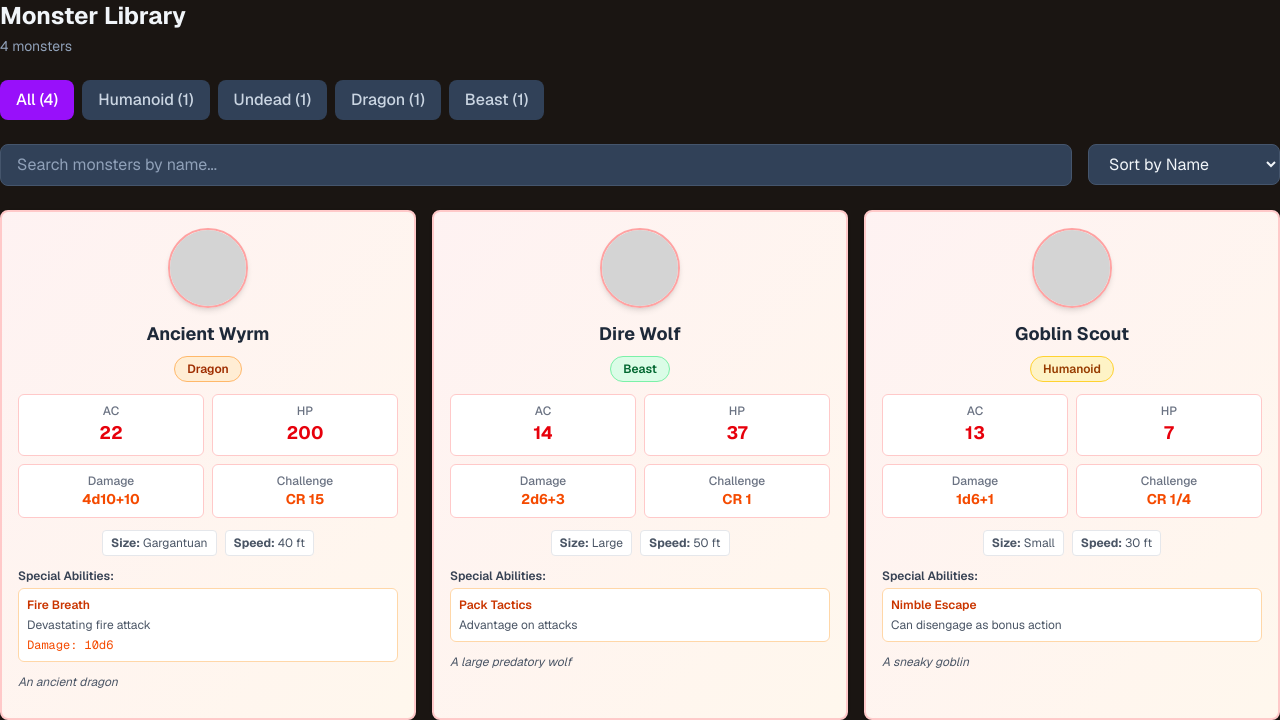
Test: MonsterLibrary › Category Filtering › filters monsters by Undead category
Step 1. Click the button with aria-label "filter by undead" → (272, 100), box [218,80,327,120]
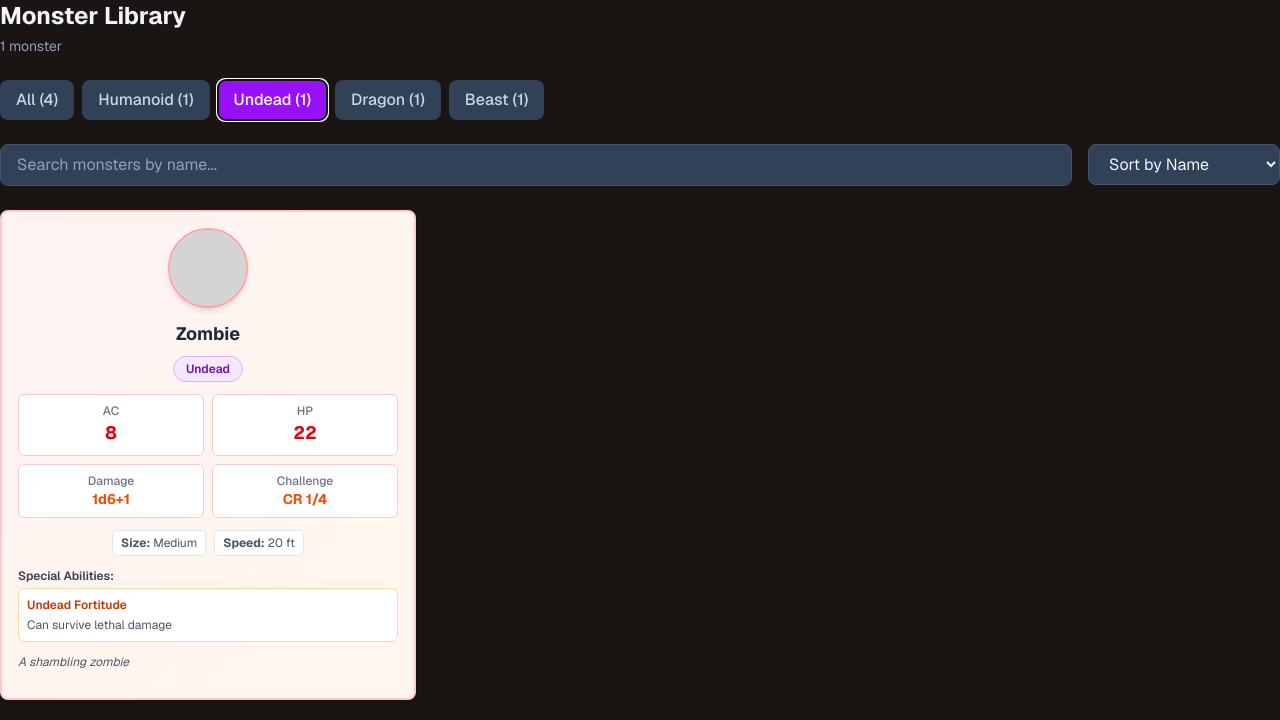
Check: the heading "Zombie" is shown, box [176,322,240,345]
Check: the heading "Goblin Scout" is gone
